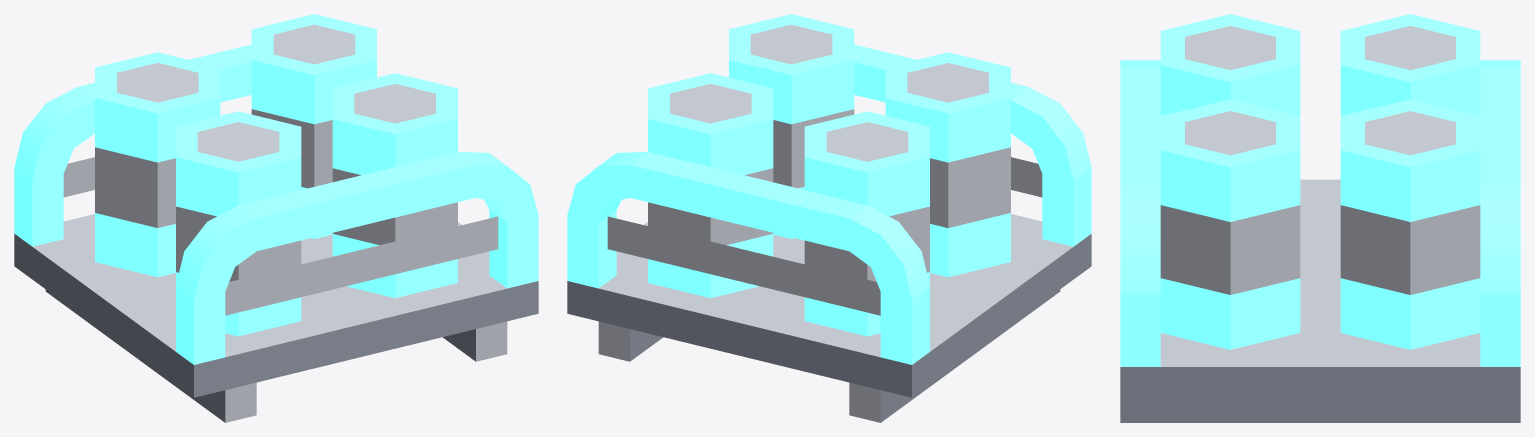
Rendered from barrels_rail.glb.
The picture shows the model from 3 angles, left to right: view 1: azimuth 30°, elevation 25°; view 2: azimuth 150°, elevation 25°; view 3: azimuth 270°, elevation 25°; orthographic projection. The views are drawn at different scales.
Visible parts, largest first — view 1: barrels_rail, barrel (×4); view 2: barrels_rail, barrel (×4); view 3: barrel (×4), barrels_rail.
Boxes of the visible parts, left/top/right/bottom form: barrels_rail: left=14, top=44, right=538, bottom=422; barrel (×4): left=95, top=14, right=457, bottom=336; barrels_rail: left=567, top=44, right=1091, bottom=422; barrel (×4): left=648, top=14, right=1010, bottom=336; barrel (×4): left=1160, top=14, right=1480, bottom=349; barrels_rail: left=1120, top=60, right=1520, bottom=422.
Bounding box in the file's own units: 0.55 × 0.35 × 0.4964.
